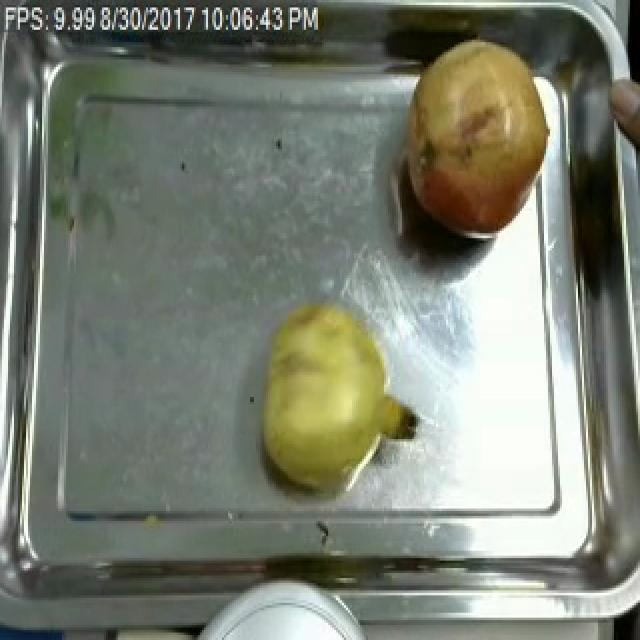fruit: (242, 288, 422, 501), (398, 32, 558, 251)
